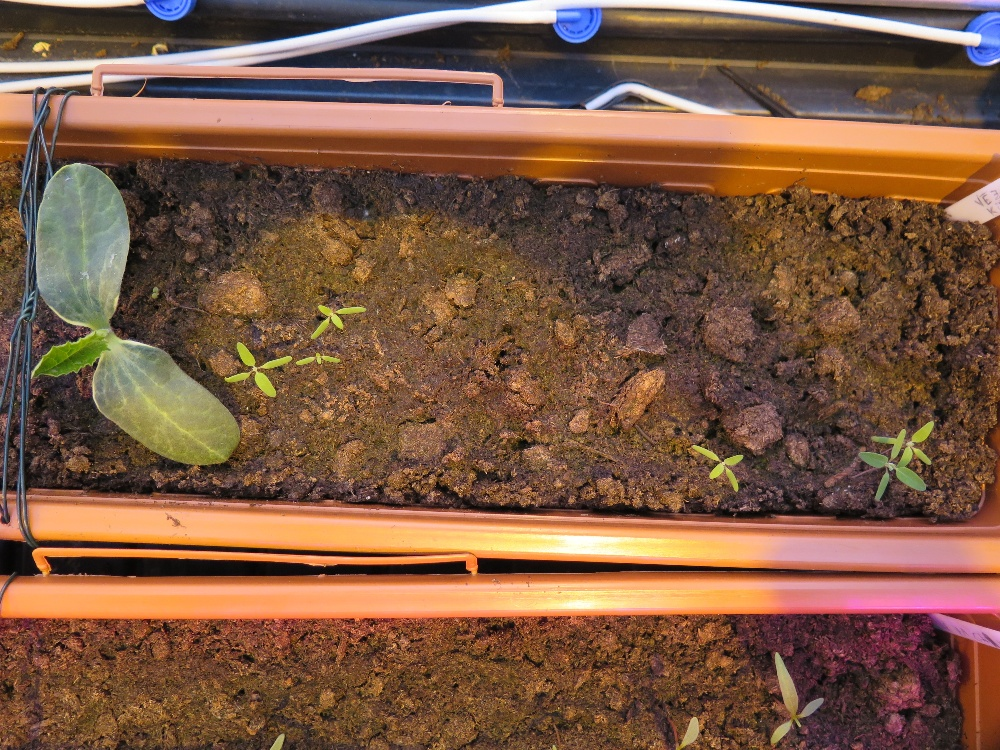crop: (25, 138, 257, 472)
weed: (862, 417, 943, 513), (225, 333, 312, 408), (764, 636, 823, 738), (689, 433, 757, 488), (280, 340, 350, 390), (302, 283, 373, 331), (684, 704, 721, 750), (262, 722, 307, 750)
